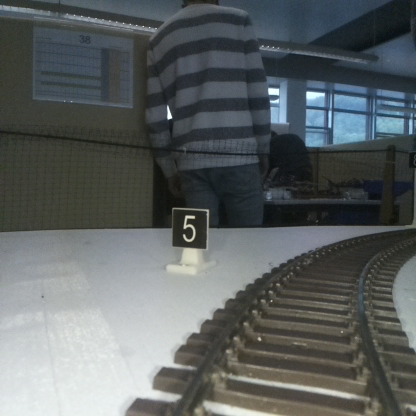black-stop-5: (172, 210, 206, 270)
